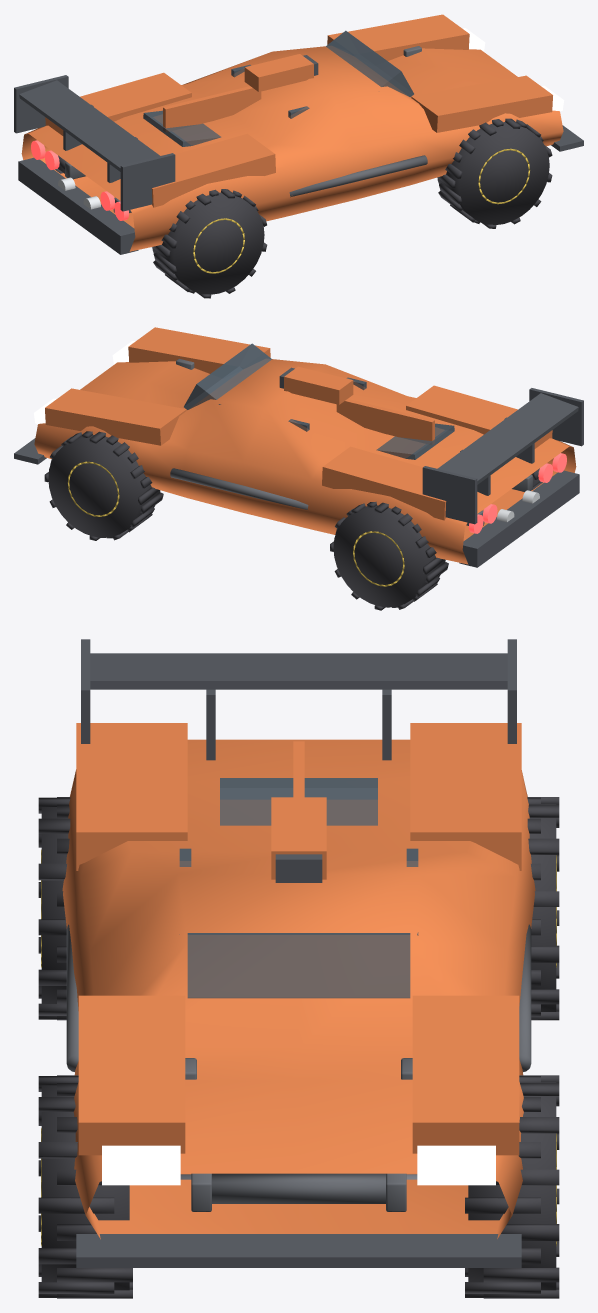
Rendered from jax_lmp_hypercar_05.glb.
The picture shows the model from 3 angles, top to bottom: view 1: azimuth 30°, elevation 25°; view 2: azimuth 150°, elevation 25°; view 3: azimuth 270°, elevation 25°; orthographic projection. The views are drawn at different scales.
Visible parts, largest first — view 1: Body_Shell, Wheel_FR, Wheel_RR, Chassis_Frame; view 2: Body_Shell, Wheel_FL, Wheel_RL, Chassis_Frame; view 3: Body_Shell, Wheel_FL, Wheel_FR, Chassis_Frame, Wheel_RL, Wheel_RR.
Boxes of the visible parts, <box> form: Body_Shell: <box>14,14,583,254</box>; Wheel_FR: <box>437,118,552,228</box>; Wheel_RR: <box>152,189,267,298</box>; Chassis_Frame: <box>65,46,427,212</box>; Body_Shell: <box>14,327,583,567</box>; Wheel_FL: <box>44,431,163,540</box>; Wheel_RL: <box>330,501,448,610</box>; Chassis_Frame: <box>170,358,532,525</box>; Body_Shell: <box>62,639,535,1267</box>; Wheel_FL: <box>465,1075,559,1298</box>; Wheel_FR: <box>38,1075,132,1298</box>; Chassis_Frame: <box>66,924,531,1211</box>; Wheel_RL: <box>527,797,559,1020</box>; Wheel_RR: <box>38,797,70,1020</box>.
Size of the model in its own units: 4.58 by 1.46 by 2.25.
